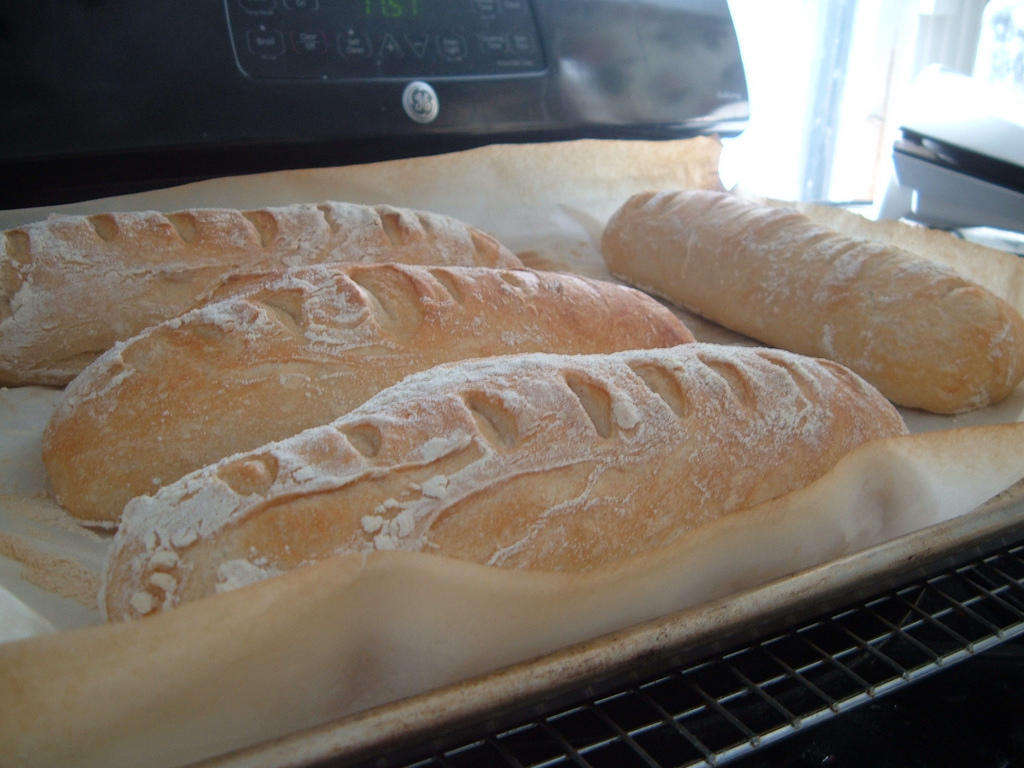slice of bread: (52, 255, 873, 525), (596, 173, 1024, 399)
